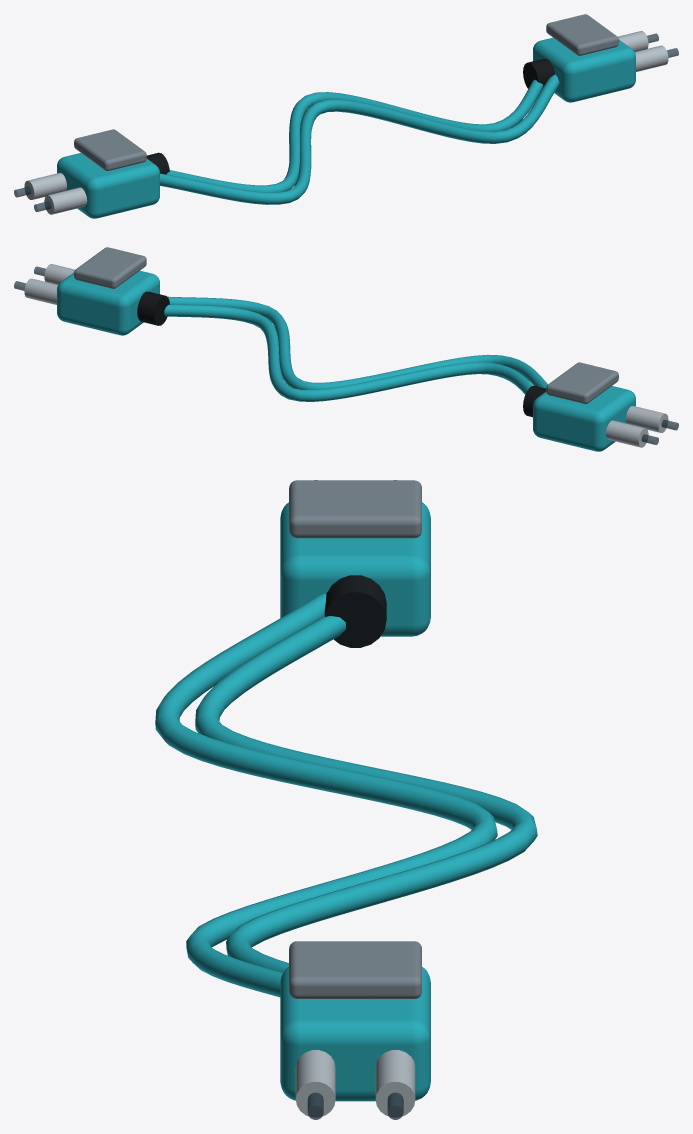
The model's file is fiber-optic-patch-cable.glb.
The picture shows the model from 3 angles, top to bottom: view 1: azimuth 30°, elevation 25°; view 2: azimuth 150°, elevation 25°; view 3: azimuth 270°, elevation 25°; orthographic projection. The views are drawn at different scales.
Parts seen in each view (by area): view 1: Optical fiber strand (×2), Duplex LC connector (×2), Connector latch (×2), Ceramic ferrule (×4), Strain relief; view 2: Optical fiber strand (×2), Duplex LC connector (×2), Connector latch (×2), Ceramic ferrule (×4), Strain relief (×2); view 3: Optical fiber strand (×2), Duplex LC connector (×2), Connector latch (×2), Ceramic ferrule (×2), Strain relief.
Boxes of the visible parts, x1,y1,x2,y2 form: Optical fiber strand (×2): (160, 74, 559, 204); Duplex LC connector (×2): (57, 37, 635, 218); Connector latch (×2): (74, 14, 618, 170); Ceramic ferrule (×4): (24, 31, 668, 214); Strain relief: (523, 58, 554, 88); Optical fiber strand (×2): (164, 296, 547, 401); Duplex LC connector (×2): (57, 270, 635, 451); Connector latch (×2): (74, 247, 618, 403); Ceramic ferrule (×4): (24, 264, 668, 447); Strain relief (×2): (137, 291, 546, 417); Optical fiber strand (×2): (155, 593, 537, 997); Duplex LC connector (×2): (280, 502, 430, 1101); Connector latch (×2): (289, 480, 421, 998); Ceramic ferrule (×2): (295, 1050, 415, 1117); Strain relief: (324, 575, 386, 647).
Size of the model in its own units: 3.34 by 0.2785 by 0.8626.
